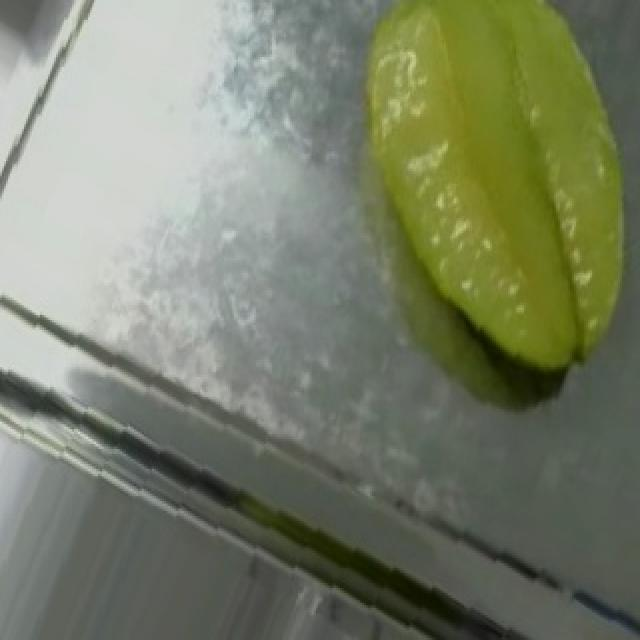fruit: (326, 0, 640, 335)
